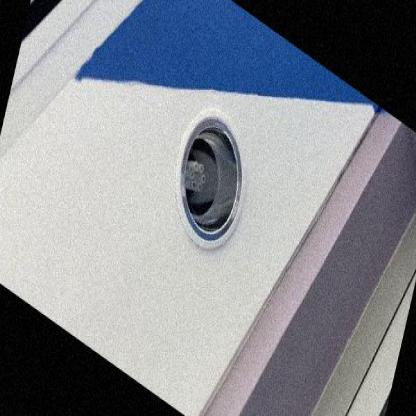light_off: (149, 60, 276, 286)
